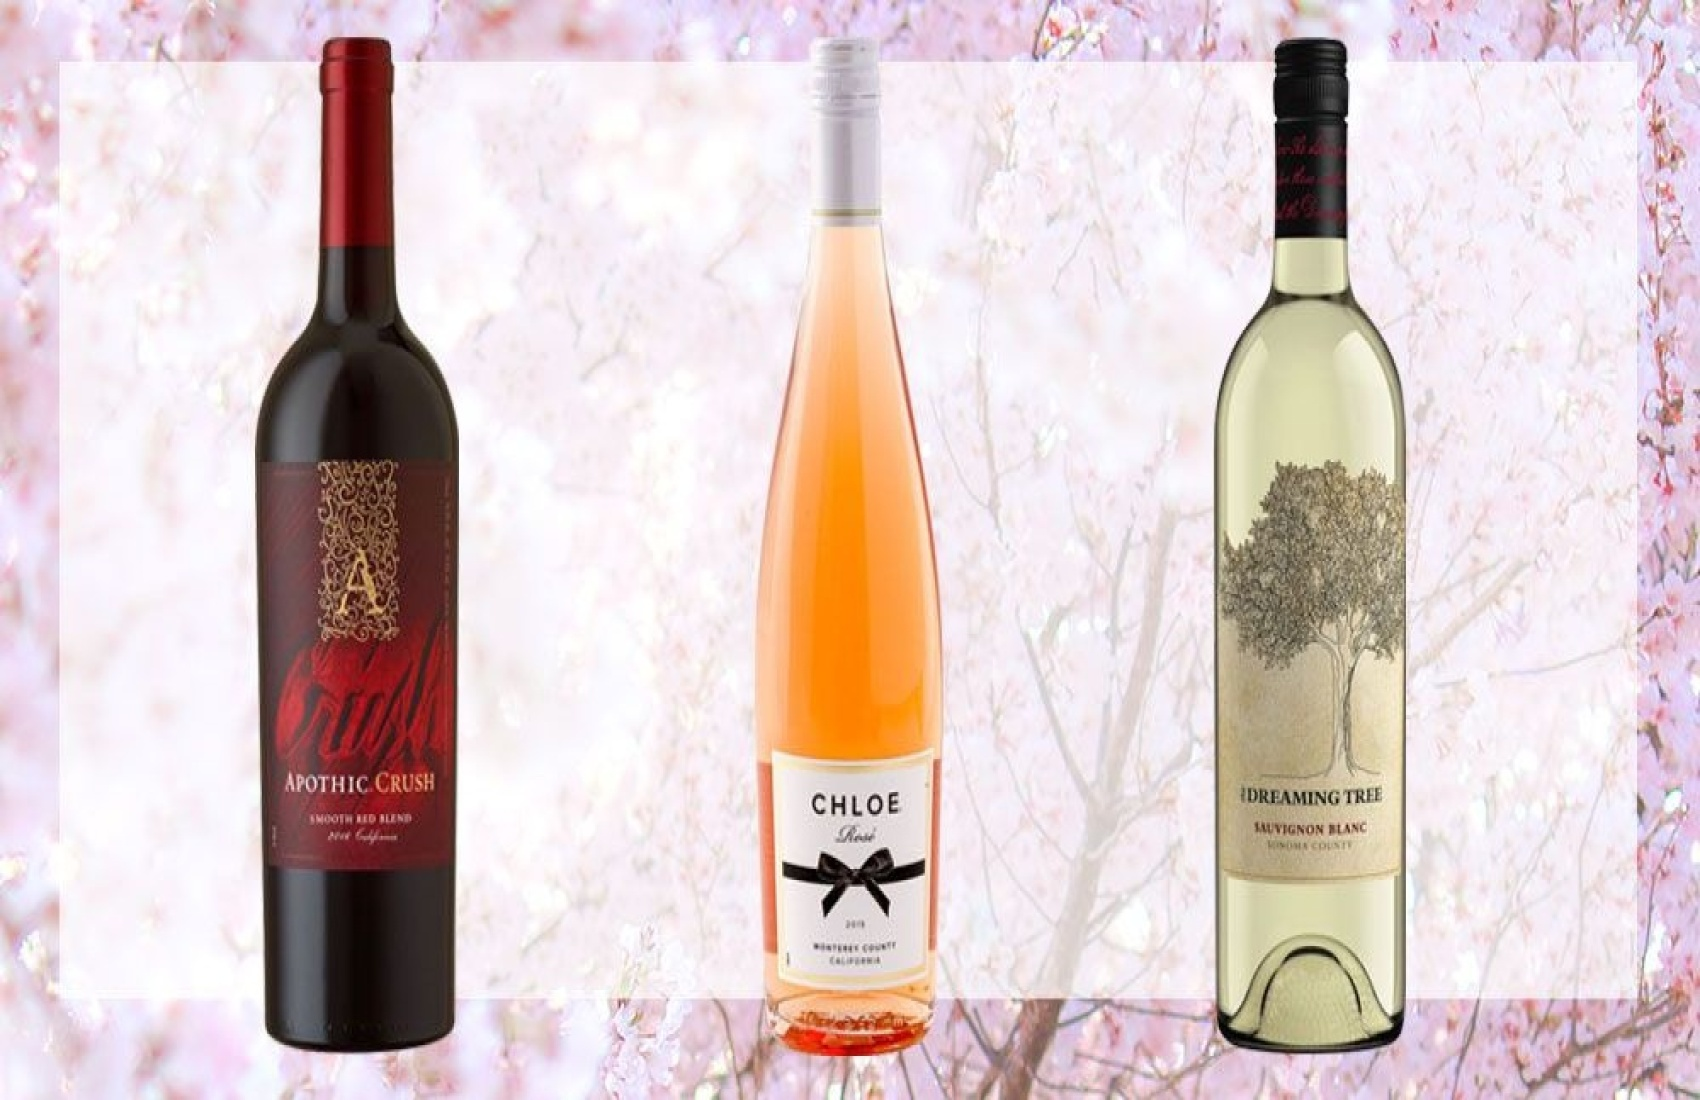wine: (735, 78, 944, 1065), (1199, 55, 1409, 1041), (250, 57, 458, 1044)
